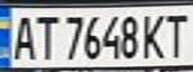4: (100, 11, 124, 60)
6: (81, 12, 103, 61)
7: (60, 11, 84, 61)
8: (118, 11, 142, 60)
A: (6, 11, 39, 61)
K: (139, 10, 169, 60)
T: (160, 10, 193, 60), (33, 11, 60, 61)
